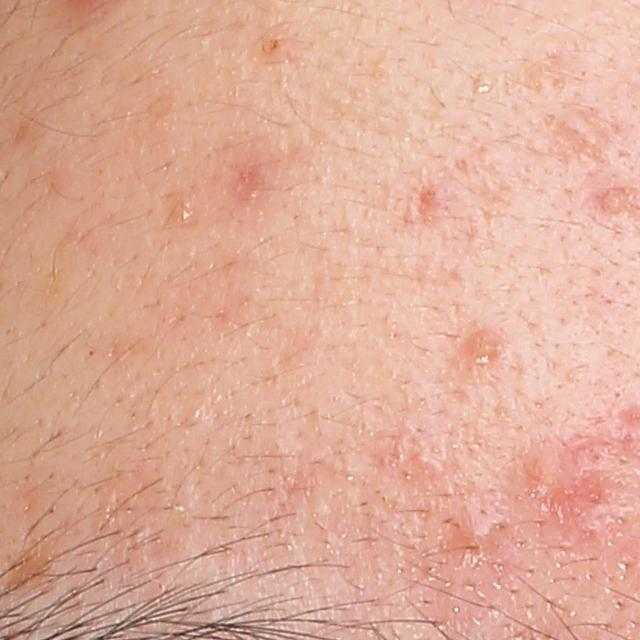comedo: (170, 203, 194, 226)
papule: (553, 109, 604, 155), (461, 322, 502, 368)
